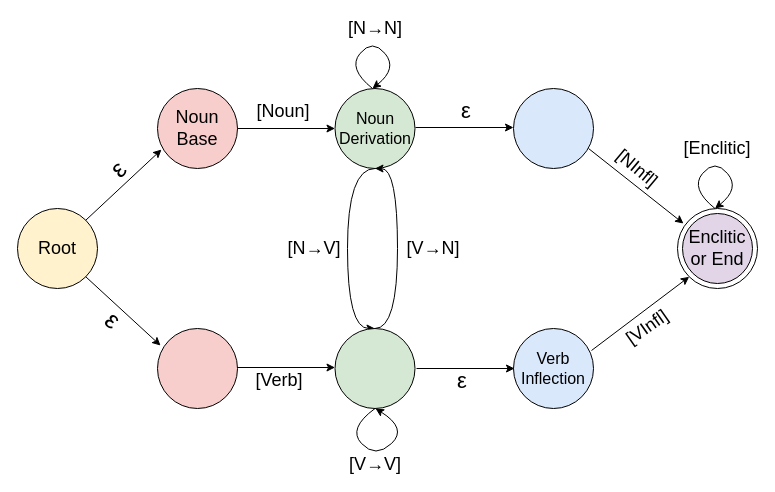
This 775x492 diagram has some shape labels left out. Here are the shapes that lost their labels. From the top down, the box of each, then its label:
(512, 88, 594, 168): Noun Inflection
(156, 328, 238, 408): Verb Base
(334, 328, 415, 408): Verb Derivation
